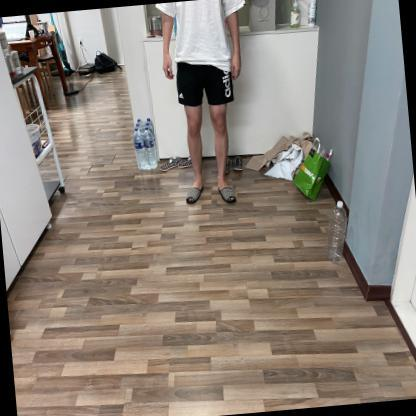no_safety-shoe: (179, 174, 210, 212), (212, 178, 241, 214)
